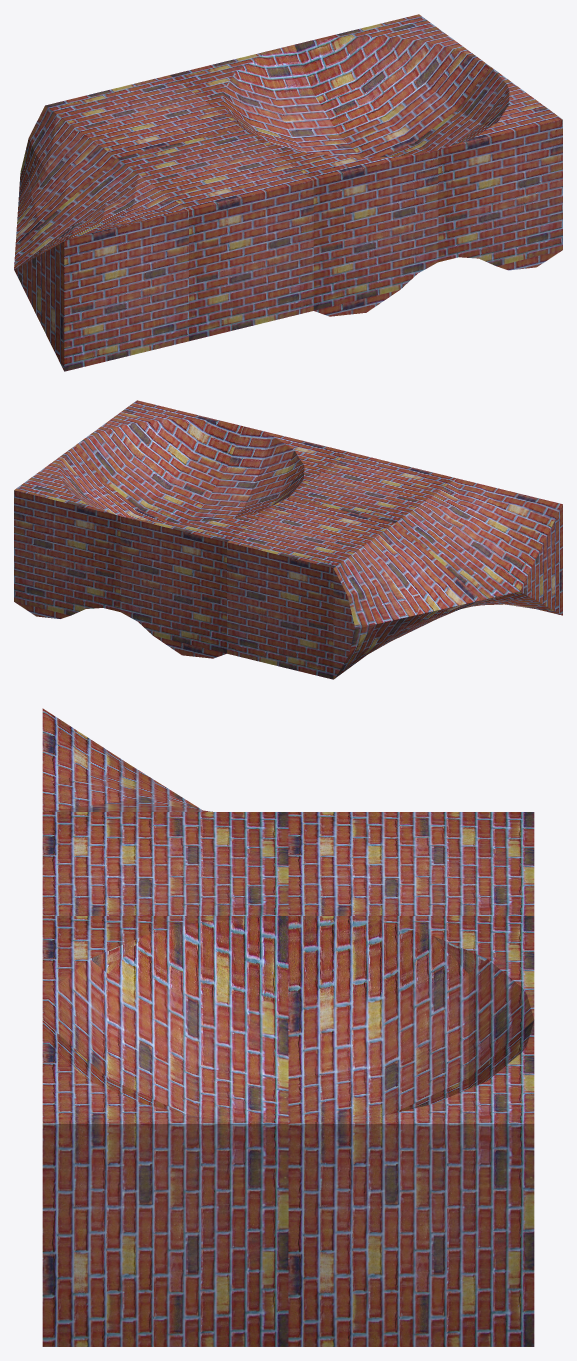
Rendered from model_for_test2_textured.obj.
3 renders of one model, top to bottom at view 1: azimuth 30°, elevation 25°; view 2: azimuth 150°, elevation 25°; view 3: azimuth 270°, elevation 25°, orthographic. The views are drawn at different scales.
Parts seen in each view (by area): view 1: model_for_test2_textured; view 2: model_for_test2_textured; view 3: model_for_test2_textured.
Part boxes in pixels (x1=…): model_for_test2_textured: x1=14, y1=14, x2=562, y2=371; model_for_test2_textured: x1=14, y1=400, x2=562, y2=679; model_for_test2_textured: x1=42, y1=708, x2=534, y2=1346.
Size of the model in its own units: 2 by 0.5566 by 1.
1 material, 1 textured.
